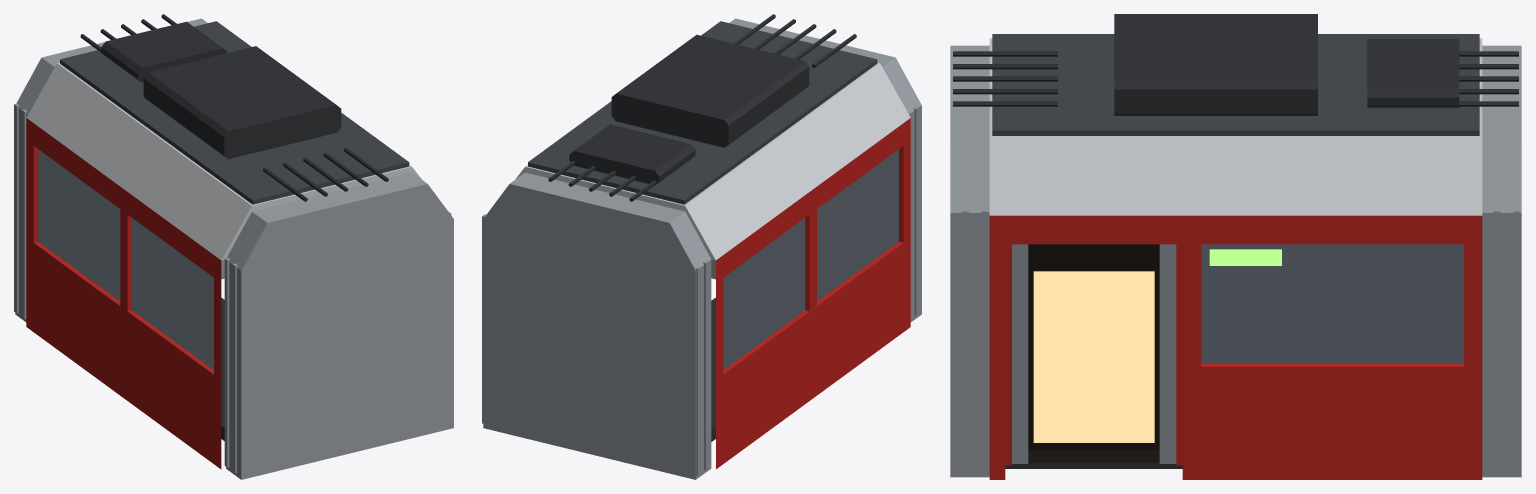
File: 14t-d-open.glb
3 views of the same model, side by side, from view 1: azimuth 30°, elevation 25°; view 2: azimuth 150°, elevation 25°; view 3: azimuth 270°, elevation 25° (orthographic). The views are drawn at different scales.
Parts seen in each view (by area): view 1: 14t-d-open; view 2: 14t-d-open; view 3: 14t-d-open.
Part boxes in pixels (bbox=[...]): 14t-d-open: bbox=[14, 14, 453, 479]; 14t-d-open: bbox=[482, 14, 921, 479]; 14t-d-open: bbox=[950, 14, 1521, 479].
Size of the model in its own units: 2.46 by 3.2 by 4.35.
